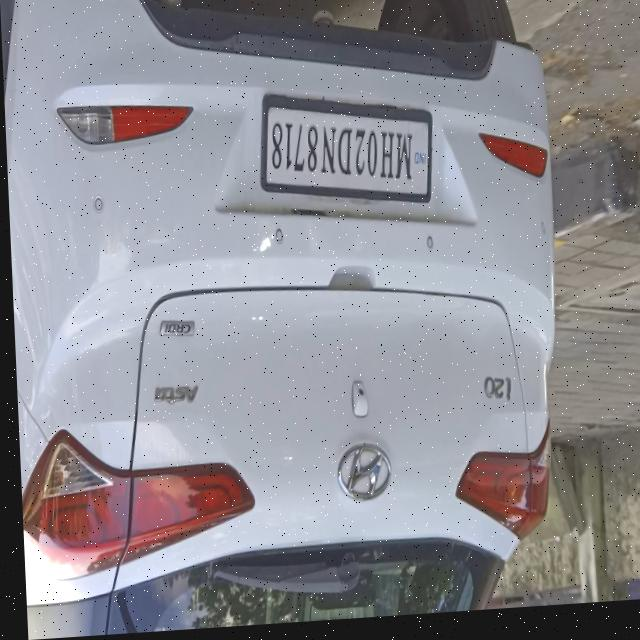plate: (251, 85, 439, 227)
